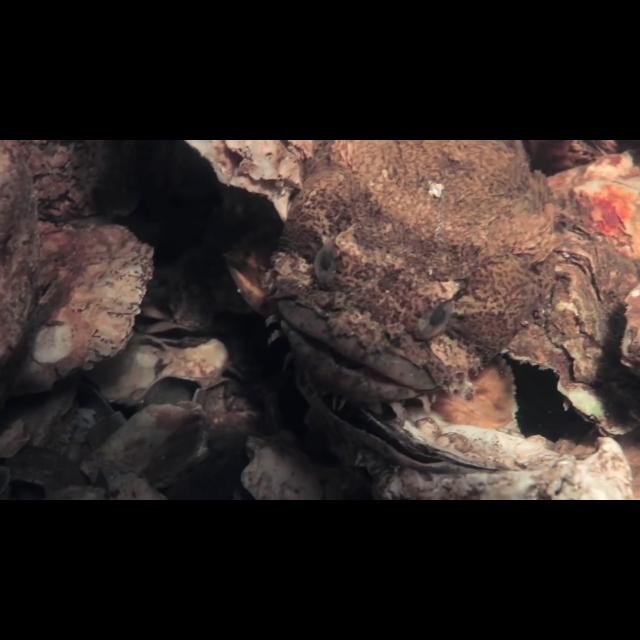Oyster-Closed: (12, 227, 157, 388), (173, 144, 312, 222)
Oyster-Open: (289, 372, 572, 480)
